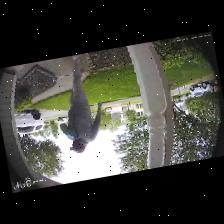person: (60, 55, 102, 152)
